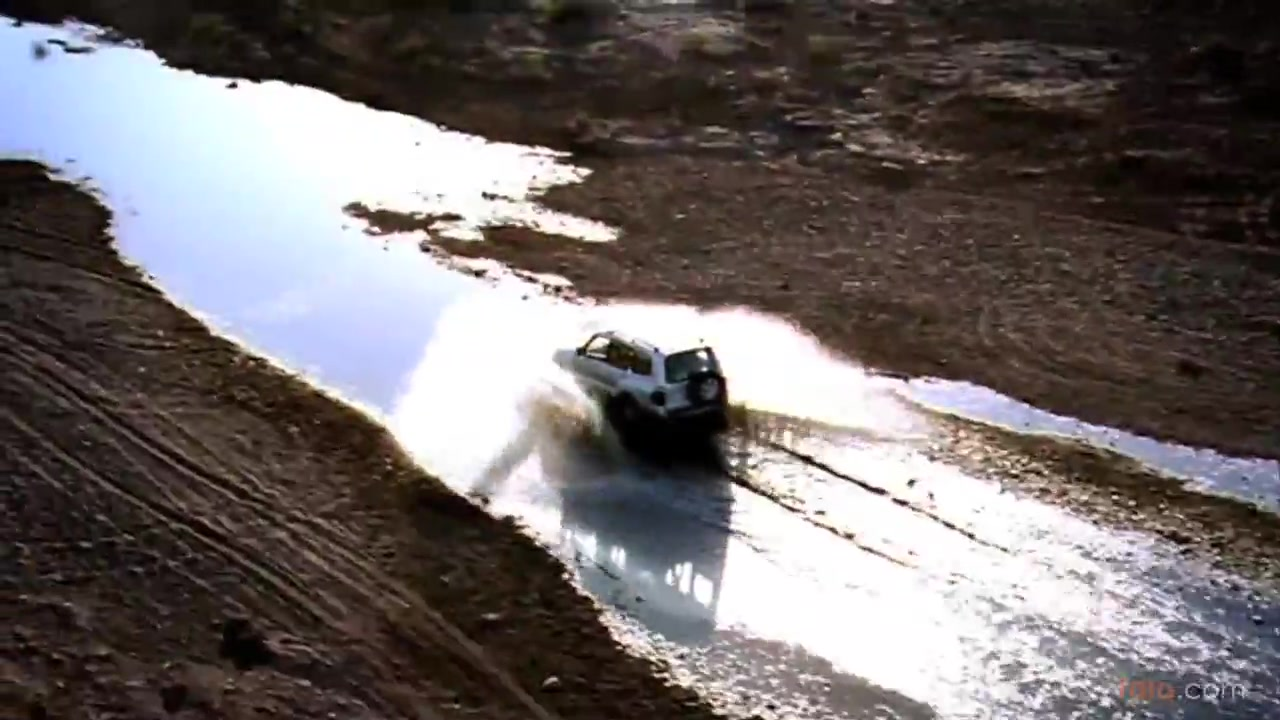car: (555, 327, 734, 437)
